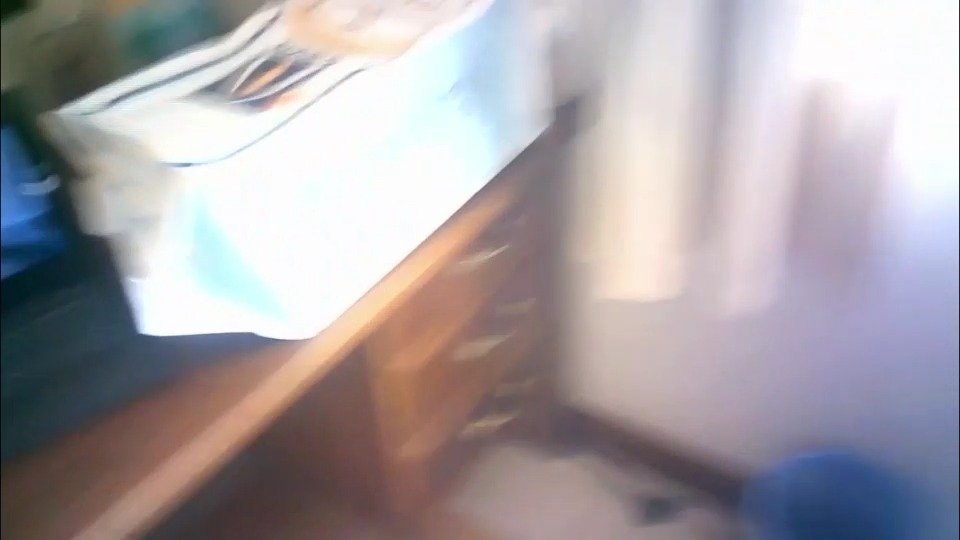wheat_flour_blue_label: (55, 2, 557, 334)
